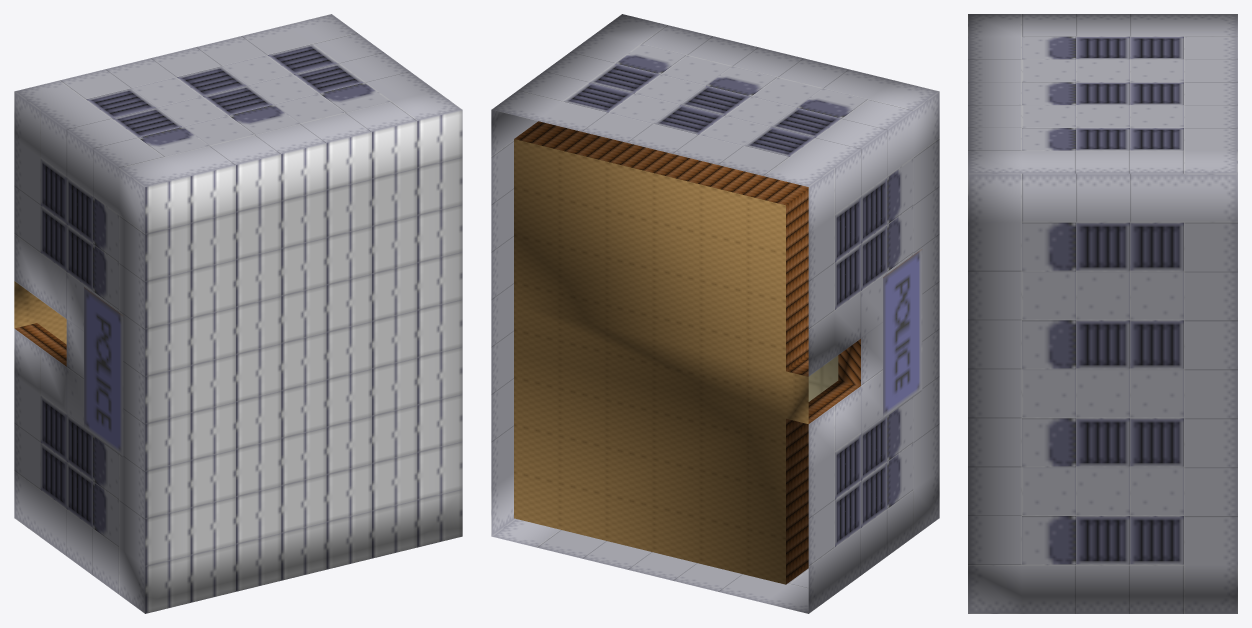
Rendered from police.fbx.
3 renders of one model, left to right at view 1: azimuth 30°, elevation 25°; view 2: azimuth 150°, elevation 25°; view 3: azimuth 270°, elevation 25°, orthographic. The views are drawn at different scales.
Parts seen in each view (by area): view 1: policeStation; view 2: policeStation; view 3: policeStation.
Boxes of the visible parts, x1=… form: policeStation: x1=14, y1=14, x2=462, y2=613; policeStation: x1=491, y1=14, x2=939, y2=613; policeStation: x1=968, y1=14, x2=1237, y2=613.
Size of the model in its own units: 14.1 by 18 by 10.
2 materials, 2 textured.
